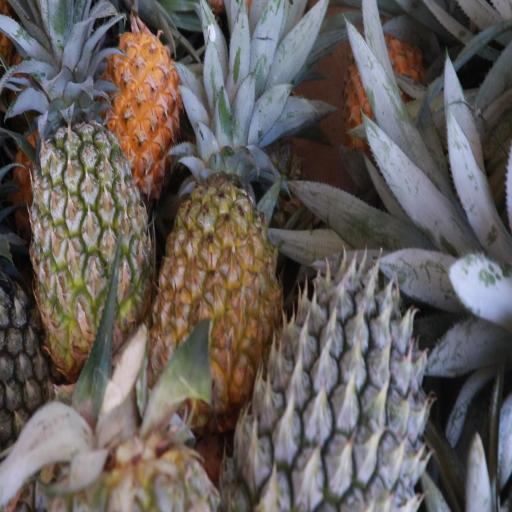------------------------------: (29, 121, 149, 354)
Pineapple - v8 v1: (156, 155, 277, 416), (68, 18, 179, 168), (343, 26, 421, 132)
